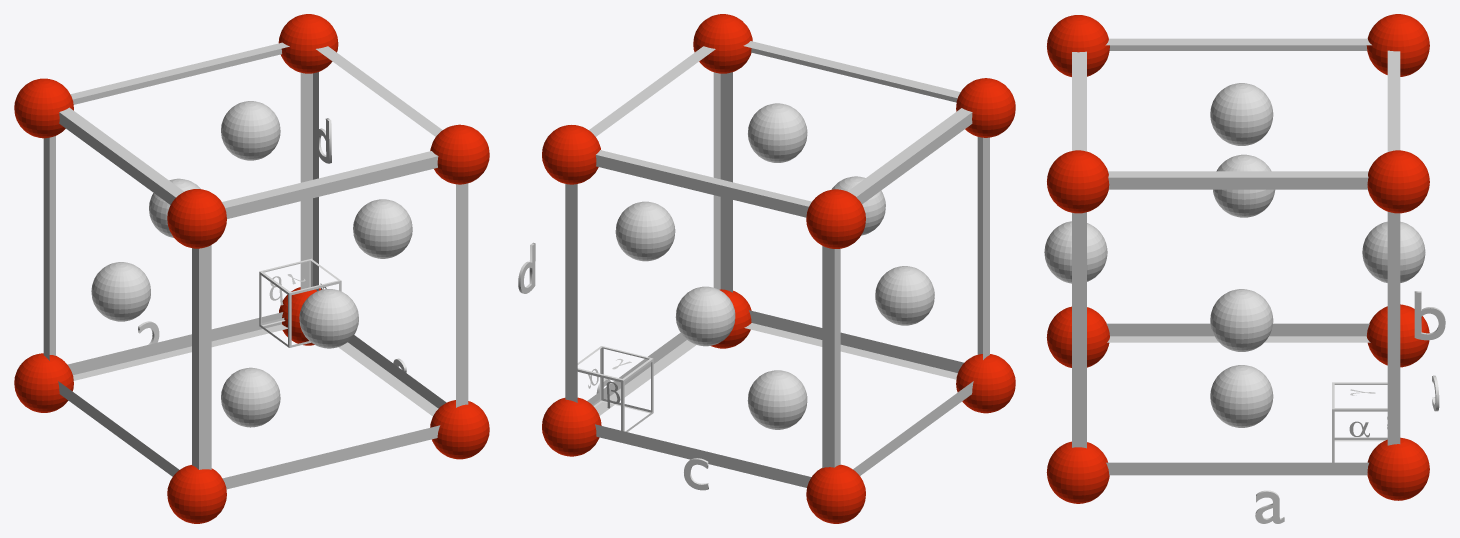
The model's file is cubique en surface.fbx.
3 views of the same model, side by side, from view 1: azimuth 30°, elevation 25°; view 2: azimuth 150°, elevation 25°; view 3: azimuth 270°, elevation 25° (orthographic). The views are drawn at different scales.
Parts seen in each view (by area): view 1: Sphere.004; view 2: Sphere.004; view 3: Sphere.004.
Part boxes in pixels (left/top/right/bottom): Sphere.004: left=14, top=14, right=489, bottom=523; Sphere.004: left=518, top=14, right=1015, bottom=523; Sphere.004: left=1044, top=14, right=1445, bottom=523.
Bounding box in the file's own units: 854 × 851 × 873.
